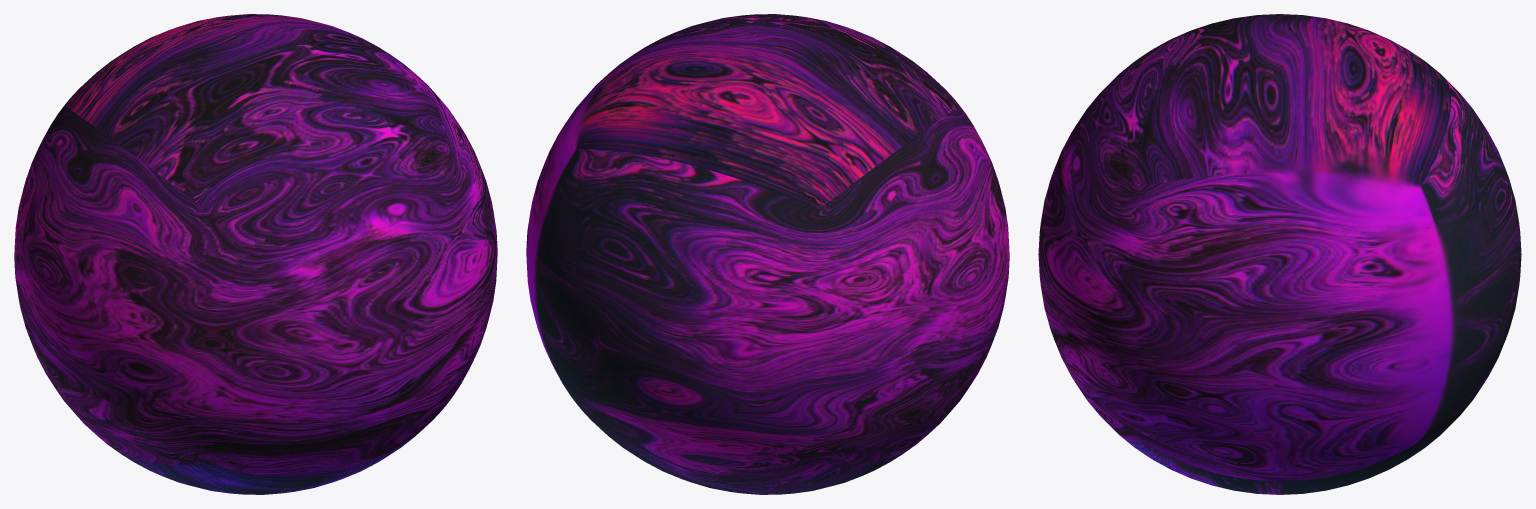
Rendered from planet.glb.
3 views of the same model, side by side, from view 1: azimuth 30°, elevation 25°; view 2: azimuth 150°, elevation 25°; view 3: azimuth 270°, elevation 25° (orthographic).
Visible parts, largest first — view 1: Cube.008; view 2: Cube.008; view 3: Cube.008.
Part boxes in pixels (x1,y1,x2,y2): Cube.008: [14, 14, 497, 494]; Cube.008: [526, 14, 1009, 494]; Cube.008: [1038, 14, 1521, 494].
Size of the model in its own units: 38.15 by 37.93 by 38.15.
1 material, 1 textured.
